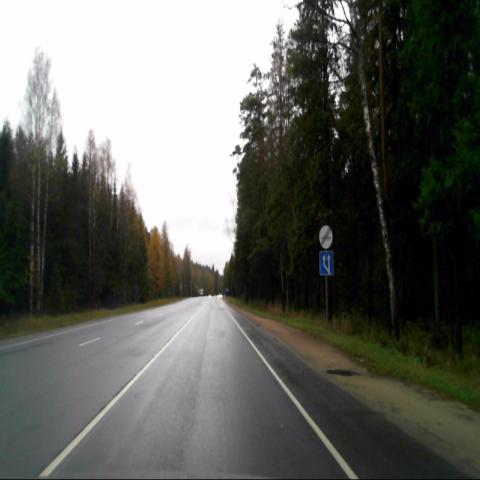3_21: (318, 223, 334, 250)
